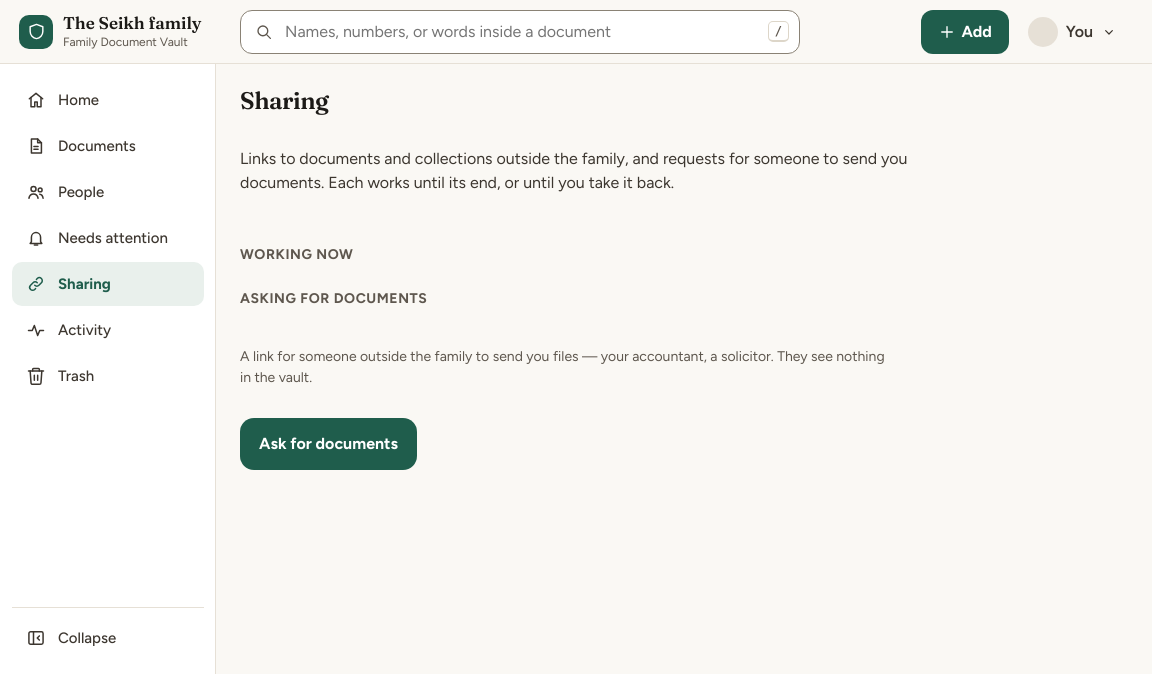
it: asking for documents › the hand-over gives the public-only site’s link when the vault has one
This screenshot has width=1152, height=674.
Click the link "Ask for documents" at (328, 444), box [240, 418, 417, 470]
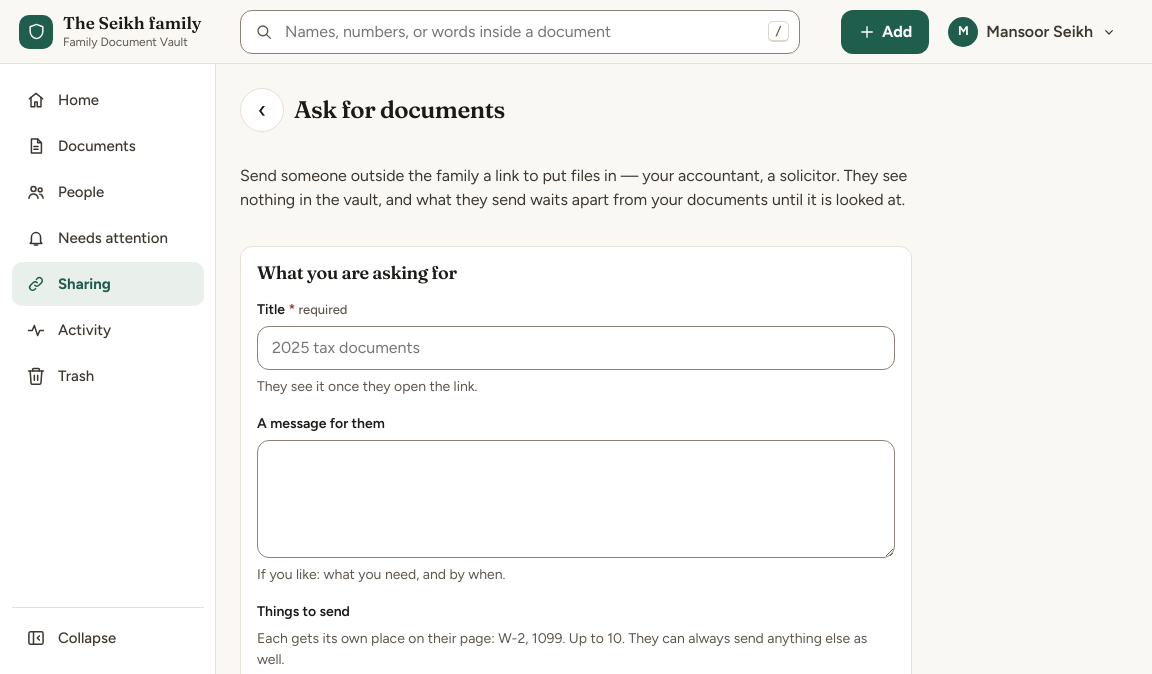
Result: the heading "What you are asking for" is shown at [257, 261, 457, 284]
Type "Tax papers" into the field labelled "Title * required" at (576, 348), box [257, 326, 895, 370]
(page scrolled)
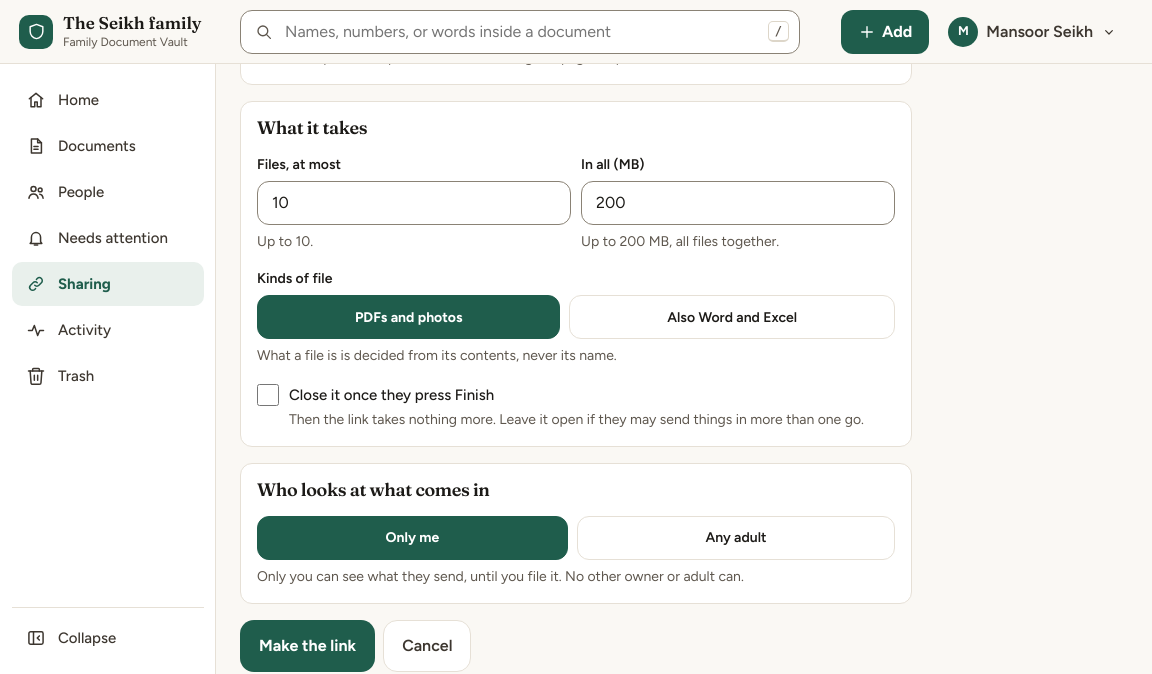
Click the button "Make the link" at (308, 646), box [240, 620, 375, 672]
(page scrolled)
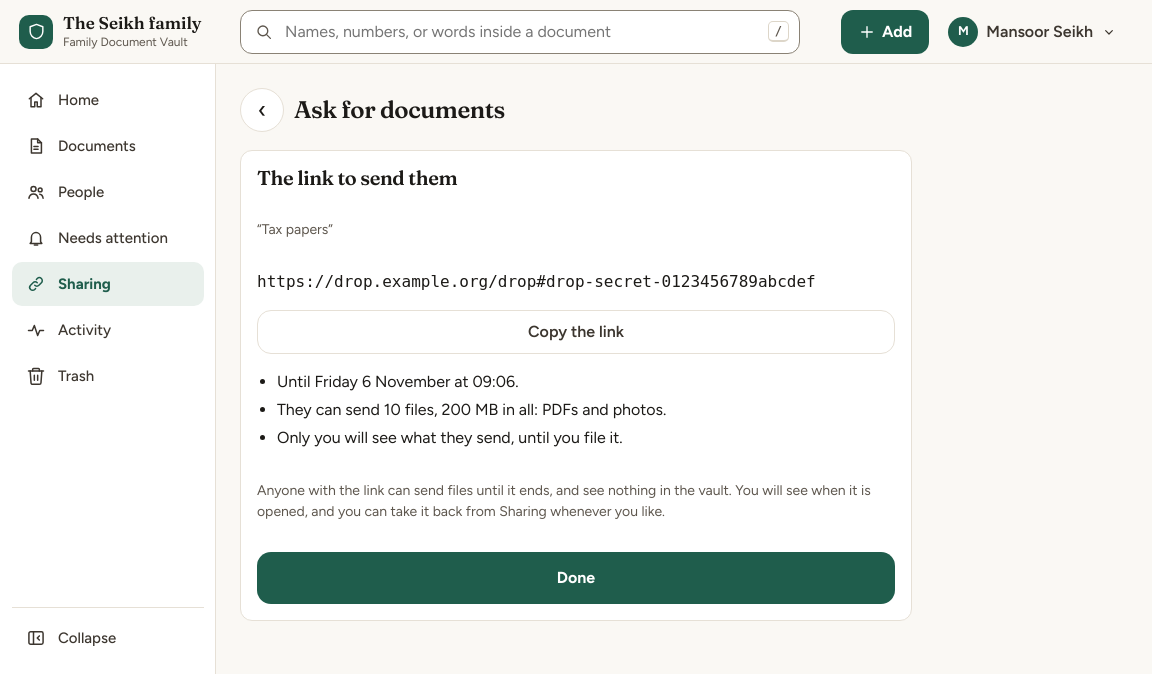
Expected: the element with test id "request-handover" does not show "http://localhost", [240, 150, 912, 621]
Click the button "Copy the link" at (576, 332), box [257, 310, 895, 354]
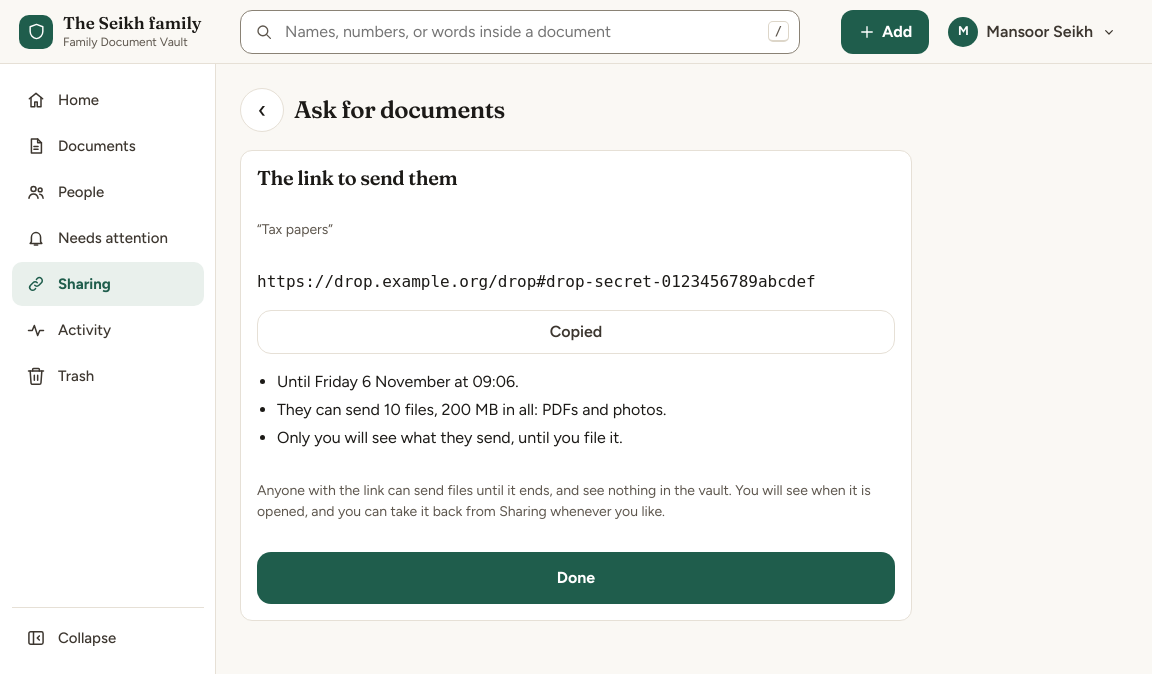
Result: the button "Copied" is shown at [257, 310, 895, 354]
